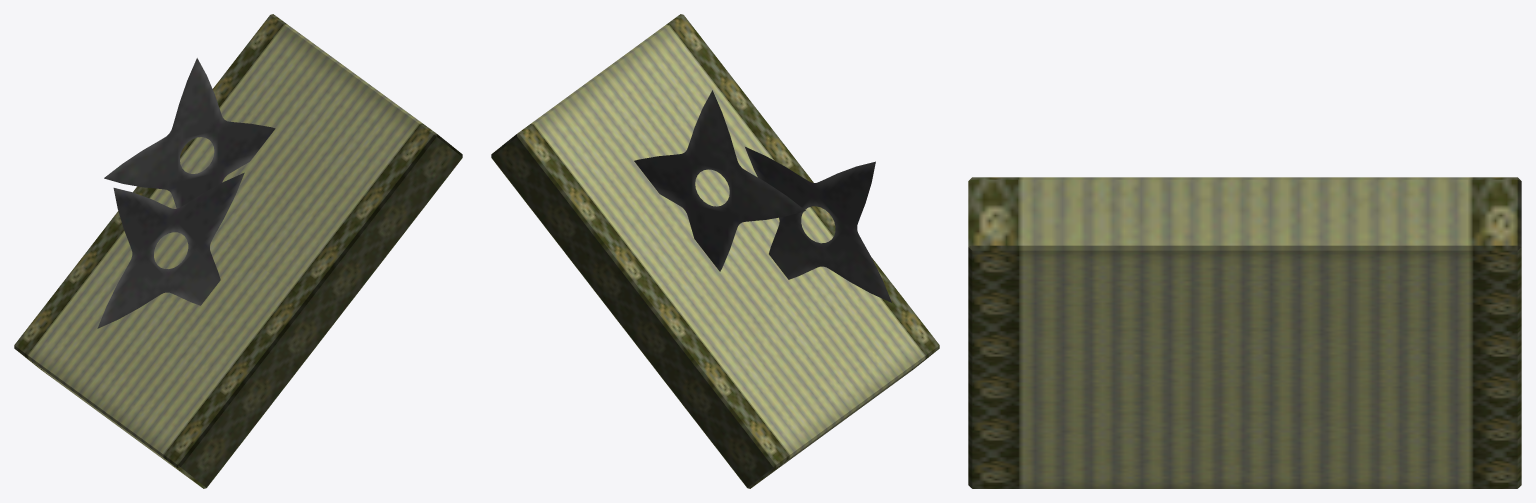
File: micon.ico.obj
The picture shows the model from 3 angles, left to right: view 1: azimuth 30°, elevation 25°; view 2: azimuth 150°, elevation 25°; view 3: azimuth 270°, elevation 25°; orthographic projection. The views are drawn at different scales.
Bounding box in the file's own units: 3.92 × 4.12 × 3.75.
1 material, 1 textured.
